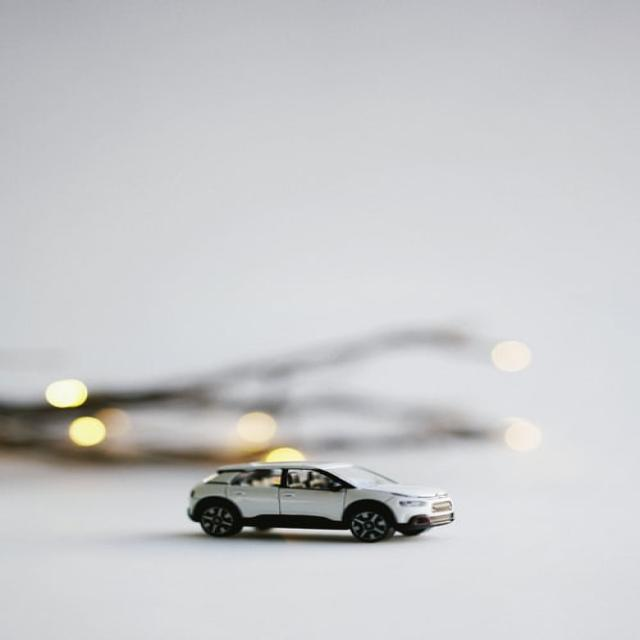Car: (186, 460, 454, 542)
